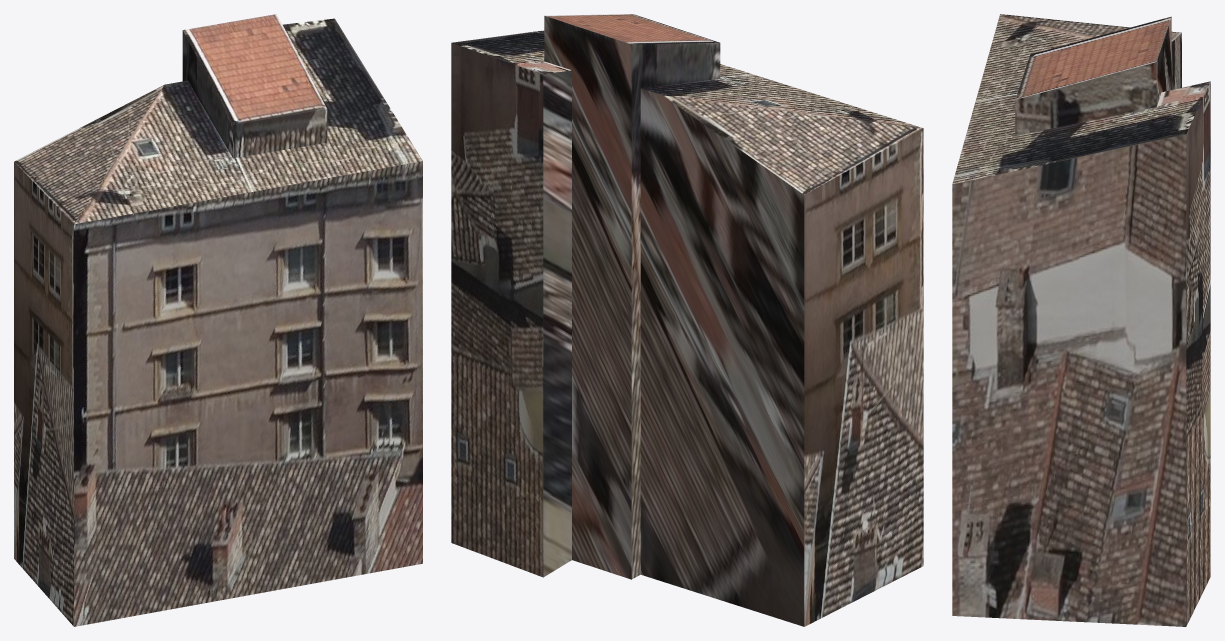
The picture shows the model from 3 angles, left to right: view 1: azimuth 30°, elevation 25°; view 2: azimuth 150°, elevation 25°; view 3: azimuth 270°, elevation 25°; orthographic projection. The views are drawn at different scales.
Visible parts, largest first — view 1: Z_UP; view 2: Z_UP; view 3: Z_UP.
Part boxes in pixels (x1=…): Z_UP: x1=14, y1=14, x2=422, y2=626; Z_UP: x1=451, y1=14, x2=923, y2=626; Z_UP: x1=952, y1=14, x2=1210, y2=626.
Bounding box in the file's own units: 16.98 × 22.97 × 10.21.
Materials: 2 (1 with a texture image).
